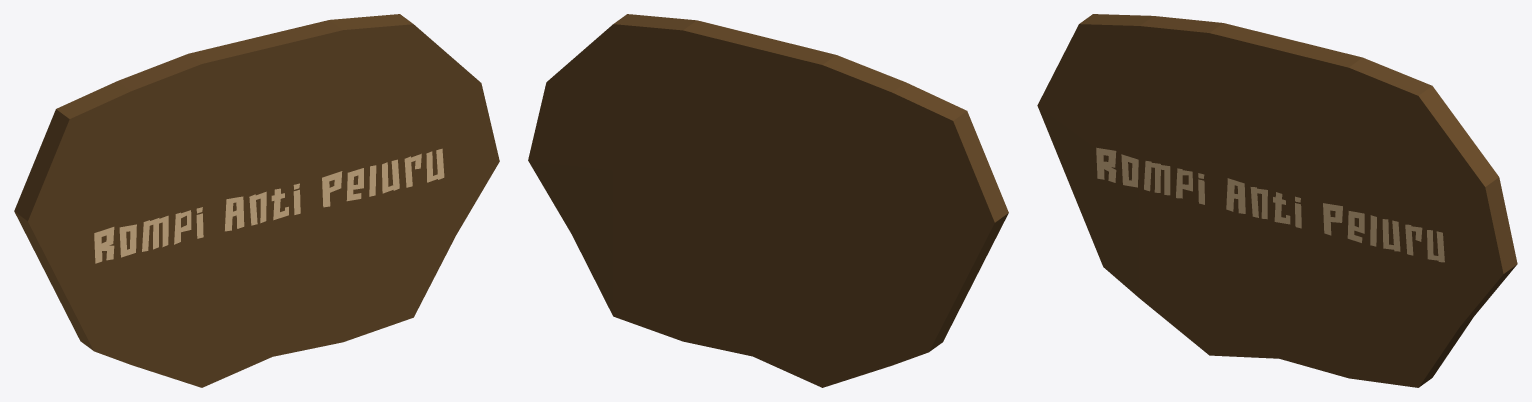
Rendered from Ui_5_rompiAntiPeluru.fbx.
The picture shows the model from 3 angles, left to right: view 1: azimuth 30°, elevation 25°; view 2: azimuth 150°, elevation 25°; view 3: azimuth 330°, elevation 25°; orthographic projection.
Parts seen in each view (by area): view 1: Cube.003, Text.002; view 2: Cube.003; view 3: Cube.003, Text.002.
Part boxes in pixels (left/top/right/bottom): Cube.003: left=14, top=14, right=499, bottom=387; Text.002: left=94, top=148, right=444, bottom=263; Cube.003: left=528, top=14, right=1008, bottom=387; Cube.003: left=1037, top=14, right=1517, bottom=387; Text.002: left=1096, top=147, right=1444, bottom=262.
Bounding box in the file's own units: 256 × 168 × 16.52.
